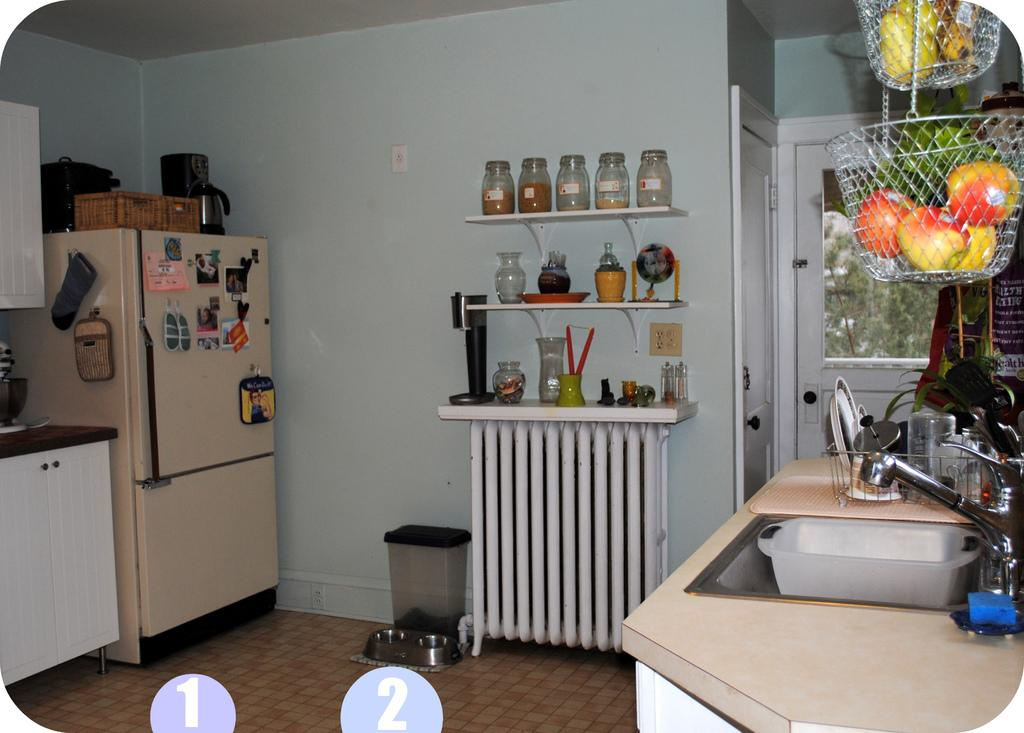cabinet_door: (54, 451, 124, 647), (0, 457, 60, 661), (0, 101, 57, 304)
handle: (135, 329, 168, 478), (800, 384, 822, 416), (750, 410, 766, 440)
